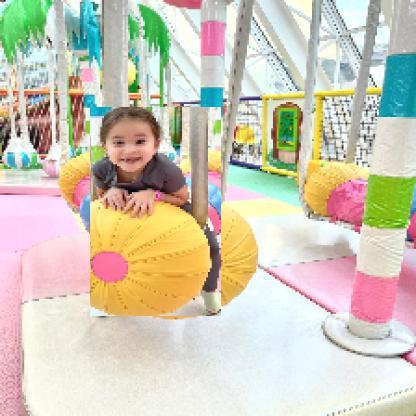child: (91, 109, 223, 319)
